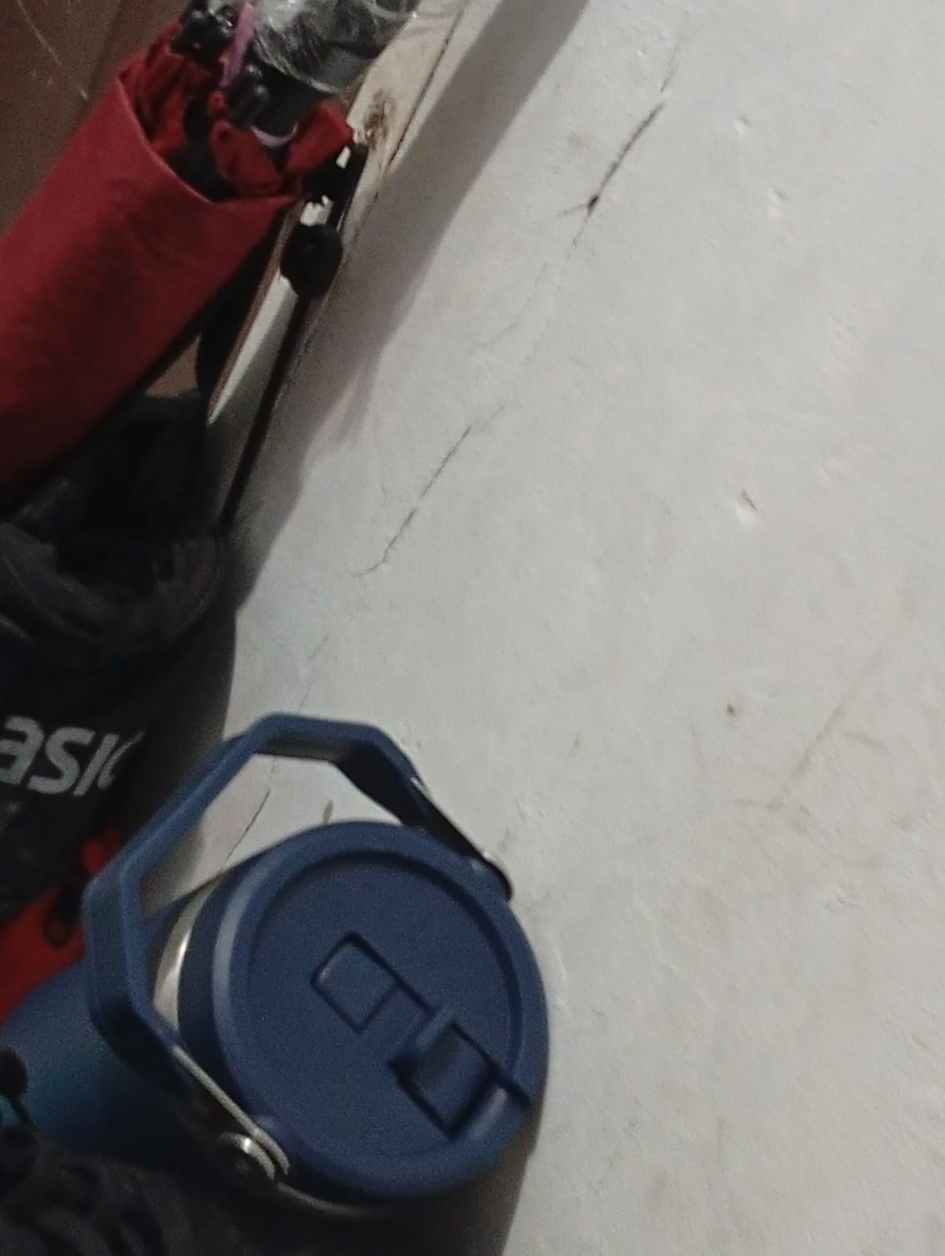Tupperware: (15, 667, 577, 1246)
